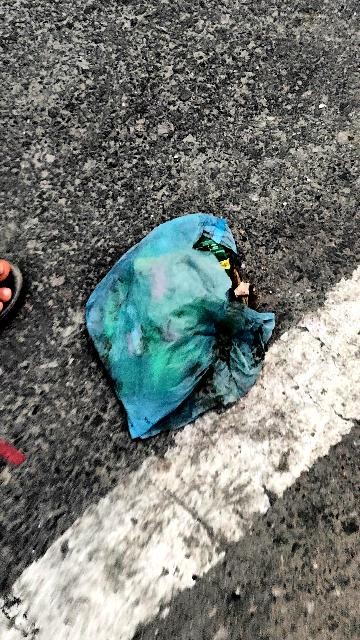polythene: (51, 190, 308, 441)
